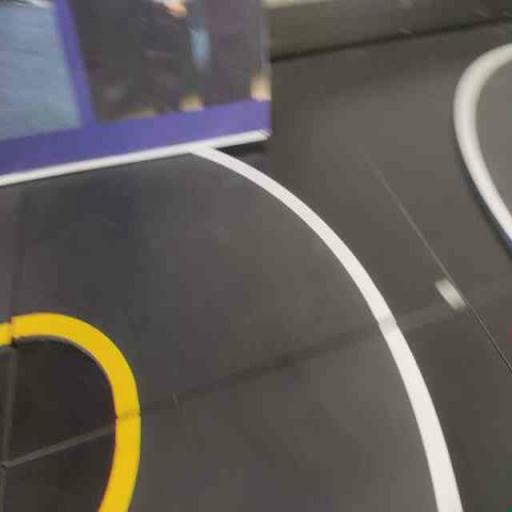left: (5, 134, 413, 468)
